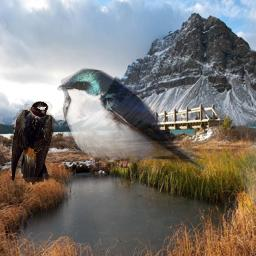Swallow: (57, 67, 205, 168), (10, 101, 54, 185)
